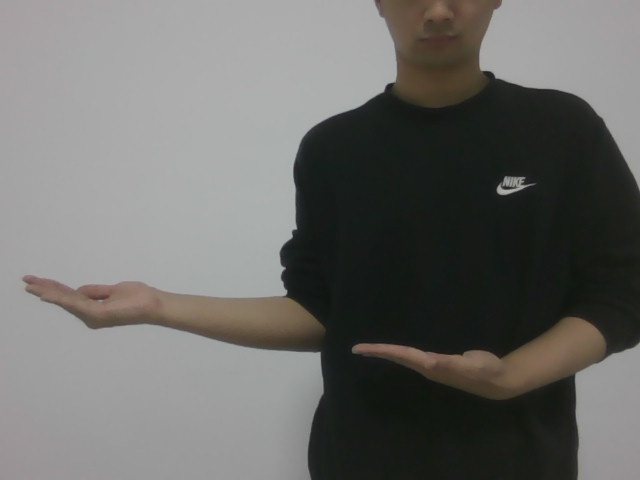please: (14, 266, 538, 408)
